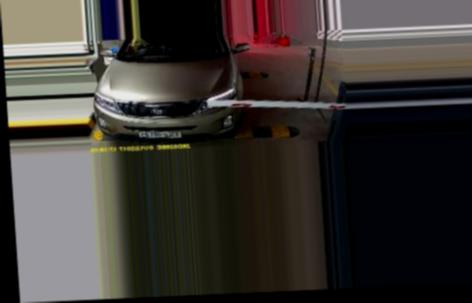License_Plate: (136, 128, 185, 140)
